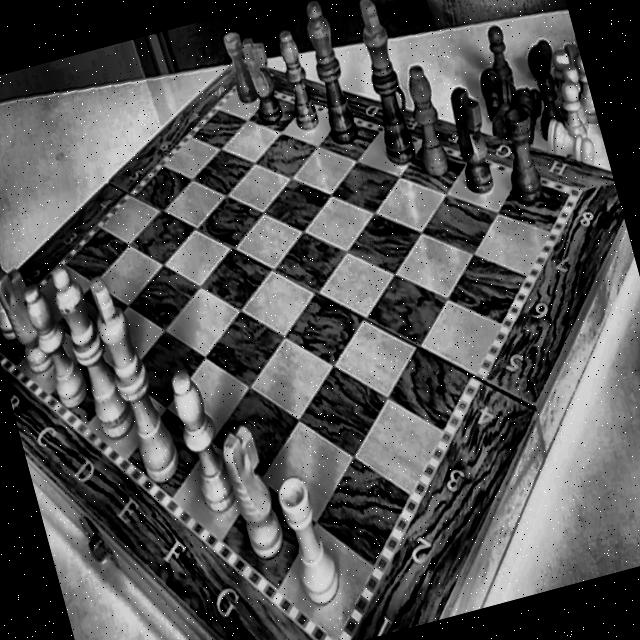black-bishop: (396, 54, 462, 198), (264, 18, 325, 135)
black-king: (345, 0, 428, 184)
black-knight: (435, 66, 509, 218), (237, 21, 294, 155)
black-queen: (296, 0, 371, 175)
black-rook: (492, 106, 556, 215), (214, 26, 258, 106)
